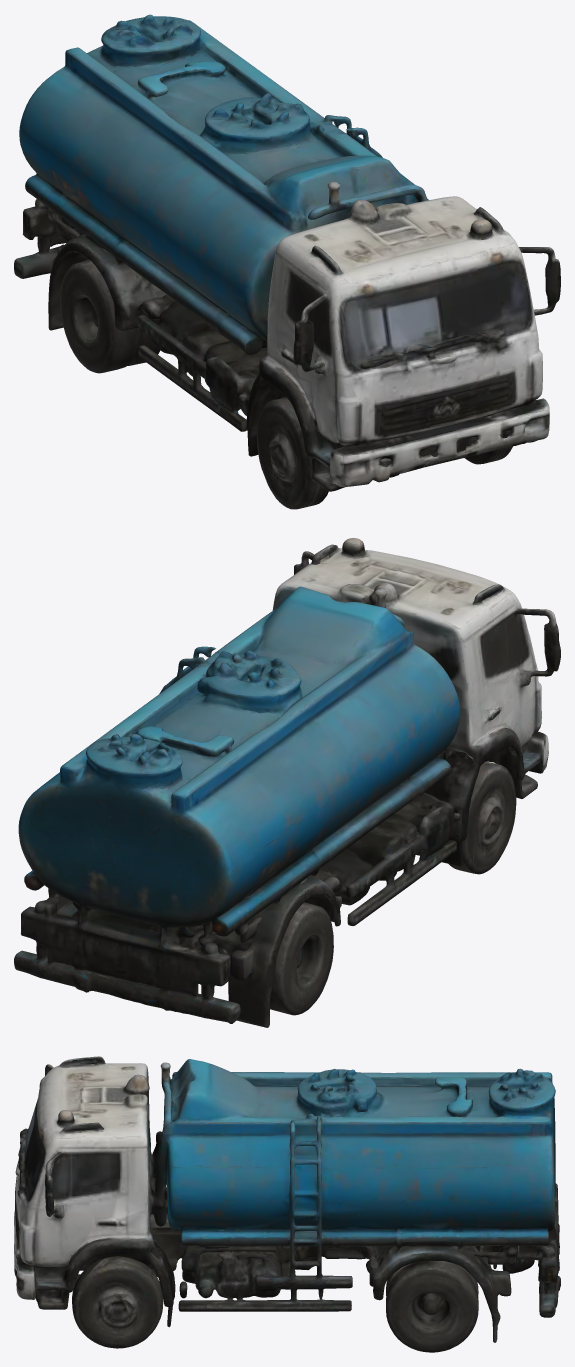
File: traffic_water_tanker_real.mobile.glb
3 renders of one model, top to bottom at view 1: azimuth 30°, elevation 25°; view 2: azimuth 150°, elevation 25°; view 3: azimuth 270°, elevation 25°, orthographic. The views are drawn at different scales.
Visible parts, largest first — view 1: geometry_0; view 2: geometry_0; view 3: geometry_0.
Part boxes in pixels (x1,y1,x2,y2): geometry_0: (14, 14, 560, 509); geometry_0: (14, 538, 560, 1027); geometry_0: (14, 1056, 560, 1352).
Size of the model in its own units: 0.4648 by 0.4733 by 1.
Materials: 1 (1 with a texture image).
